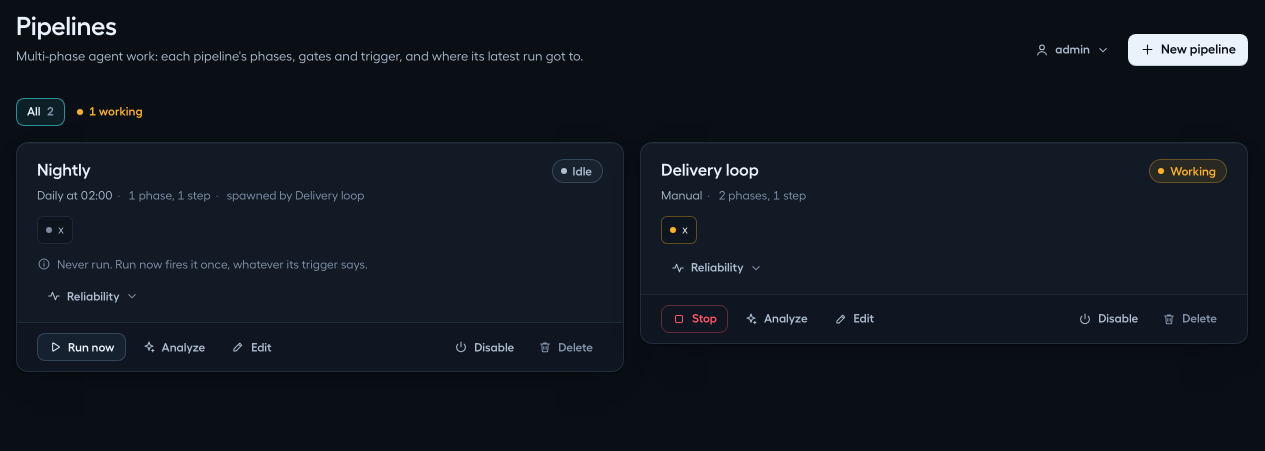
Scenario: Pipelines tab — spawn phases › says Stop stops the instances a parent spawned, and Delete what it does to parents
Step 1. Click the button "Stop" → (694, 319), box [661,305,728,333]
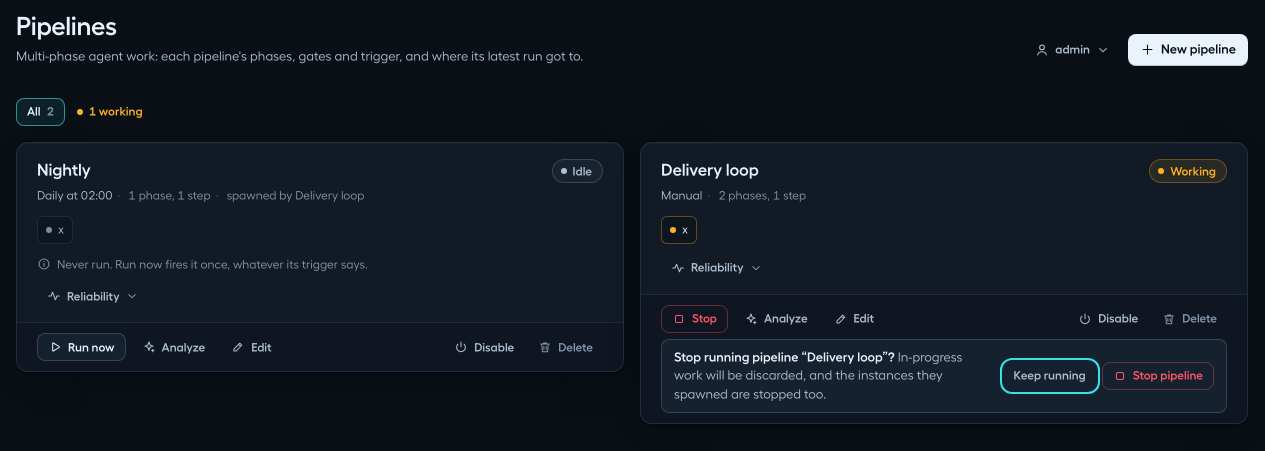
Now the text "In-progress work will be discarded, and the instances they spawned are stopped too." is shown, box [674,350,962,400]
Step 2. Click the button with aria-label "Delete Nightly" → (566, 347), box [528,333,603,361]
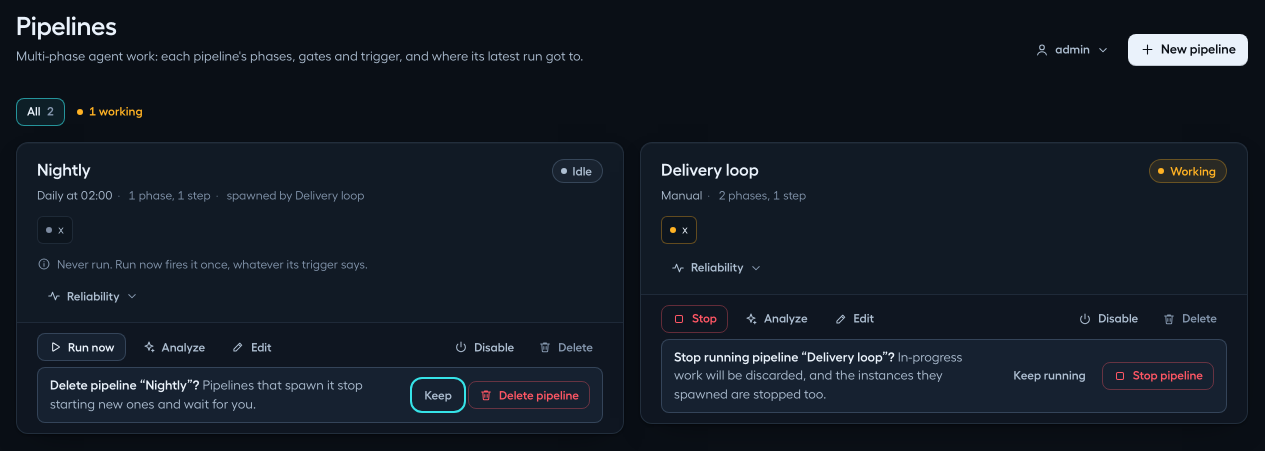
Now the text "Pipelines that spawn it stop starting new ones and wait for you." is shown, box [50,378,363,410]
